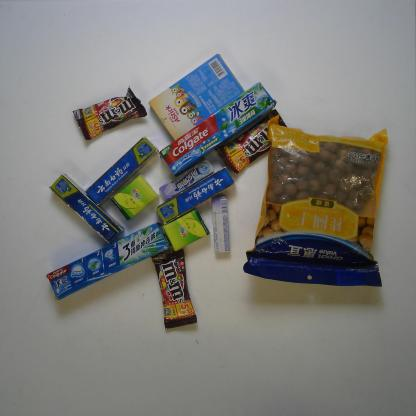Candy: (153, 160, 215, 202), (210, 192, 230, 256)
Chocolate: (214, 108, 288, 174), (66, 85, 146, 144), (150, 249, 198, 330)
Dessert: (148, 55, 244, 140)
Dried Food: (243, 114, 388, 290)
Personal Hygiene: (161, 81, 277, 177), (41, 224, 169, 302), (84, 136, 160, 208), (50, 174, 124, 244), (154, 165, 236, 226)
Tissue: (110, 174, 160, 220), (163, 209, 211, 253)
